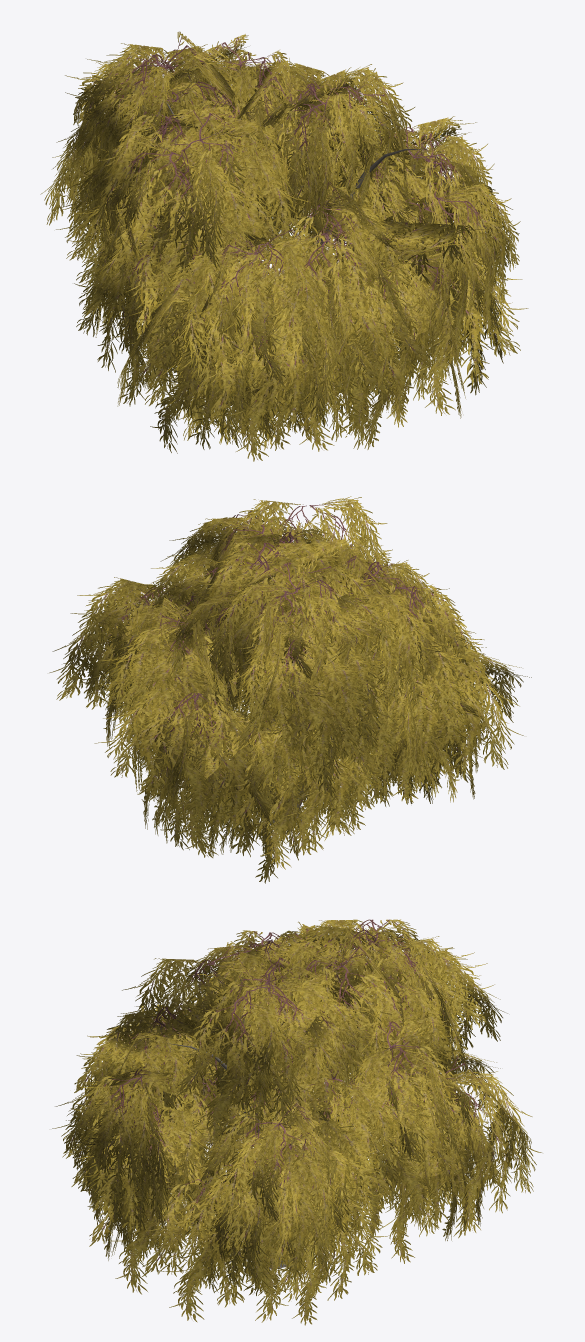
Rendered from Salix_Alba_Autumn_Young.glb.
3 views of the same model, one above another, from view 1: azimuth 30°, elevation 25°; view 2: azimuth 150°, elevation 25°; view 3: azimuth 270°, elevation 25° (orthographic). The views are drawn at different scales.
Parts seen in each view (by area): view 1: Salix_Alba_Autumn_Young__LOD3; view 2: Salix_Alba_Autumn_Young__LOD3; view 3: Salix_Alba_Autumn_Young__LOD3.
Boxes of the visible parts, x1=… form: Salix_Alba_Autumn_Young__LOD3: x1=40, y1=31, x2=528, y2=461; Salix_Alba_Autumn_Young__LOD3: x1=49, y1=496, x2=531, y2=883; Salix_Alba_Autumn_Young__LOD3: x1=52, y1=919, x2=541, y2=1325.
Bounding box in the file's own units: 14.5 × 9.11 × 14.76.
Materials: 2 (2 with a texture image).
